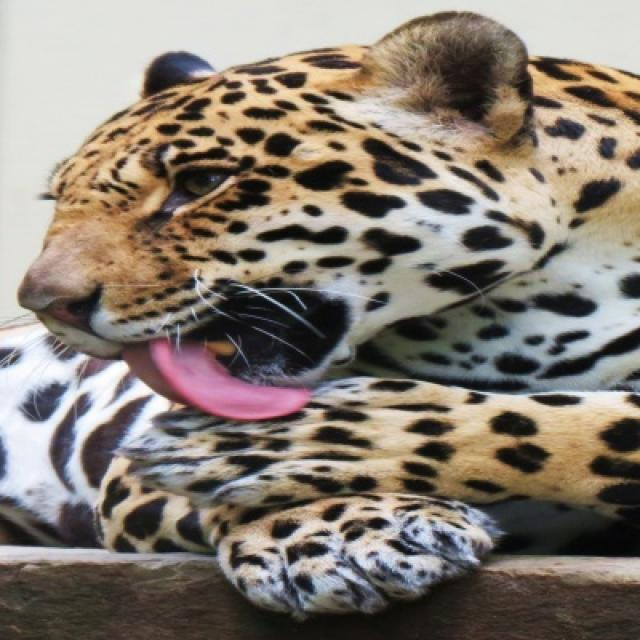Jaguar: (0, 11, 638, 622)
